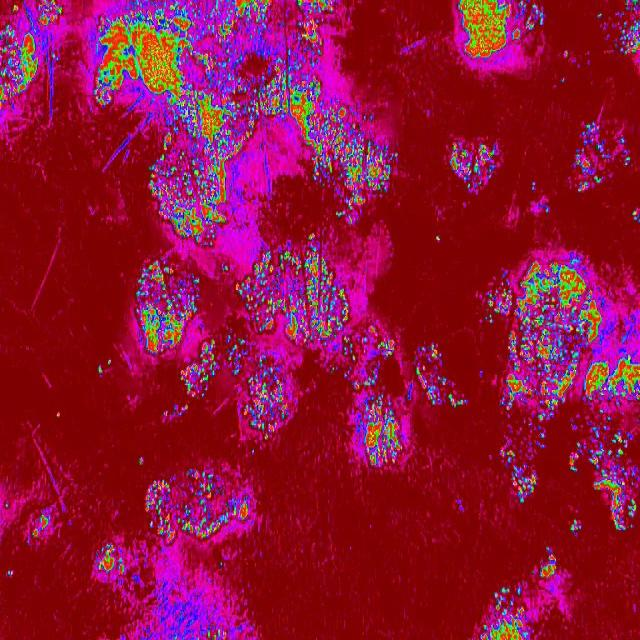fire: (484, 251, 640, 418), (92, 0, 288, 118), (288, 49, 402, 228), (150, 116, 258, 249), (232, 231, 348, 341), (144, 466, 256, 540), (567, 420, 640, 531), (0, 0, 64, 105), (135, 258, 201, 359), (457, 0, 544, 60), (499, 418, 554, 508), (240, 357, 292, 442), (572, 120, 630, 194), (414, 340, 468, 410), (362, 392, 406, 467), (477, 582, 532, 640), (448, 141, 501, 193), (295, 0, 337, 49), (180, 341, 216, 398), (616, 0, 640, 58), (93, 542, 127, 578), (328, 338, 354, 378), (222, 335, 246, 376), (195, 621, 233, 640), (538, 546, 558, 579), (159, 403, 190, 422), (356, 367, 382, 387), (375, 337, 396, 358), (29, 516, 49, 538), (455, 496, 468, 516), (536, 199, 550, 215), (631, 207, 640, 223), (360, 334, 370, 347), (562, 48, 570, 62), (368, 324, 377, 336), (6, 568, 16, 578), (432, 234, 443, 242), (137, 455, 145, 466), (560, 76, 568, 85), (530, 180, 536, 192), (597, 11, 603, 21), (222, 262, 228, 272), (97, 366, 103, 376), (107, 358, 112, 368), (218, 561, 225, 568), (4, 502, 10, 509), (56, 411, 62, 418)
